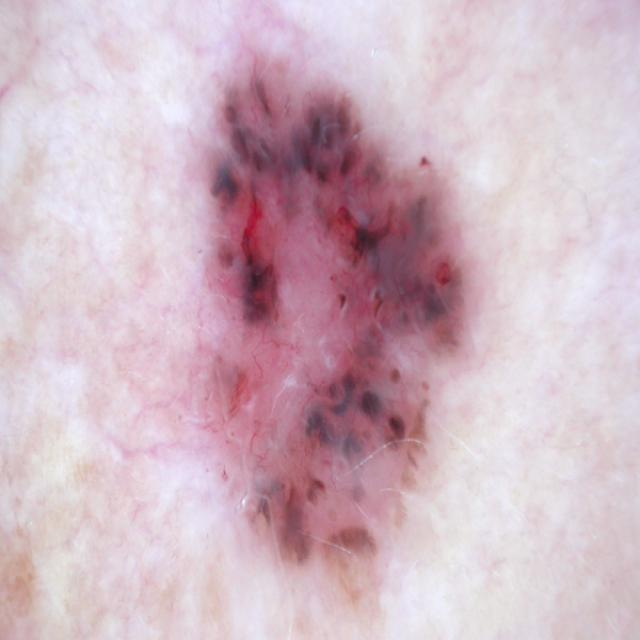Skin-Cancer Basal cell carcinoma: (113, 12, 624, 640)
